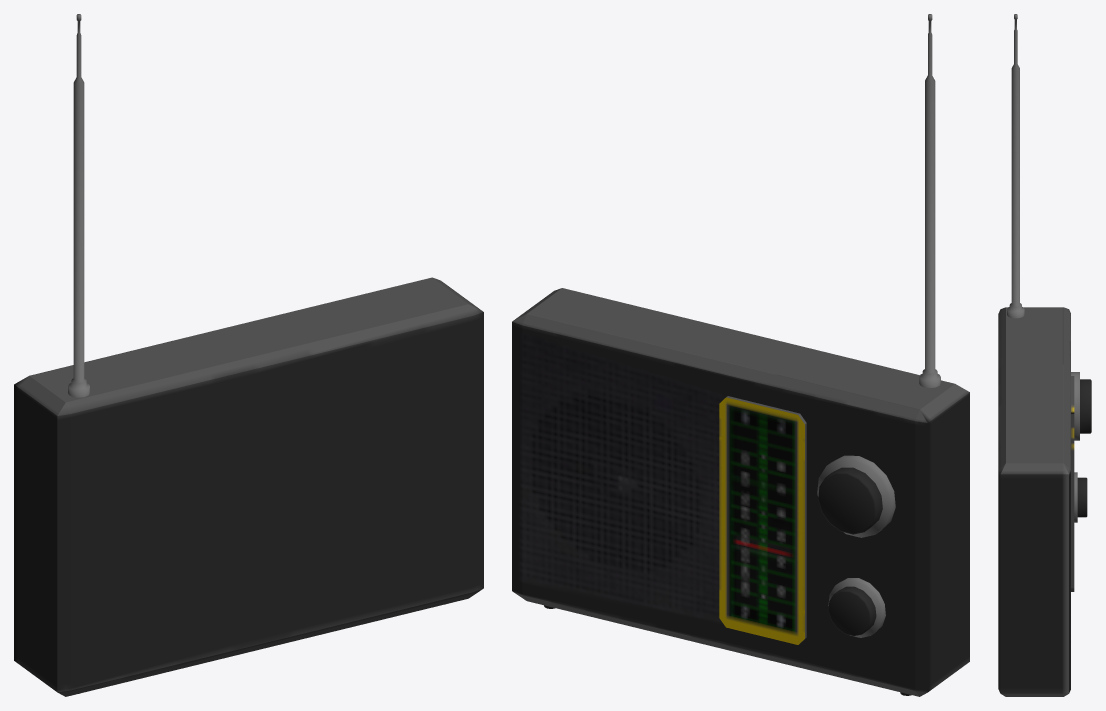
Rendered from Radio.obj.
The picture shows the model from 3 angles, left to right: view 1: azimuth 30°, elevation 25°; view 2: azimuth 150°, elevation 25°; view 3: azimuth 270°, elevation 25°; orthographic projection. The views are drawn at different scales.
Parts seen in each view (by area): view 1: Radio_Cube.010; view 2: Radio_Cube.010; view 3: Radio_Cube.010.
Part boxes in pixels (x1,y1,x2,y2): Radio_Cube.010: [14, 14, 483, 696]; Radio_Cube.010: [512, 14, 969, 696]; Radio_Cube.010: [998, 14, 1091, 696].
Bounding box in the file's own units: 0.8595 × 1.31 × 0.2047.
